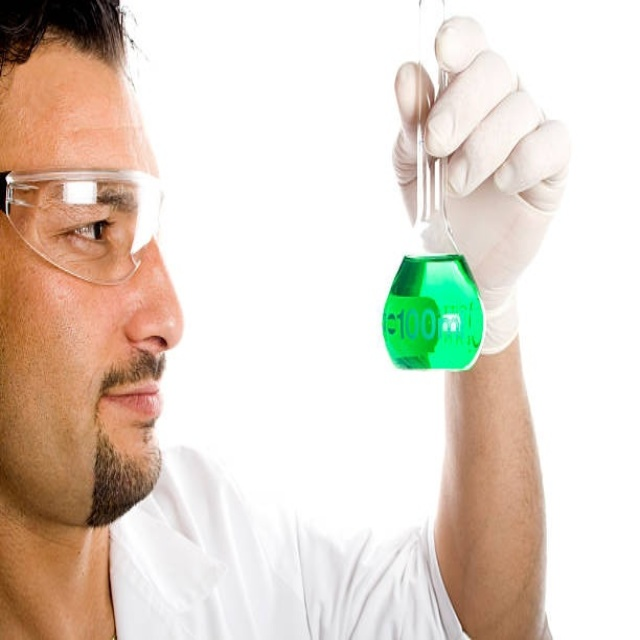Gafas: (5, 166, 162, 291)
Guantes: (388, 10, 592, 355)
Sin_mascara: (84, 363, 166, 474)
